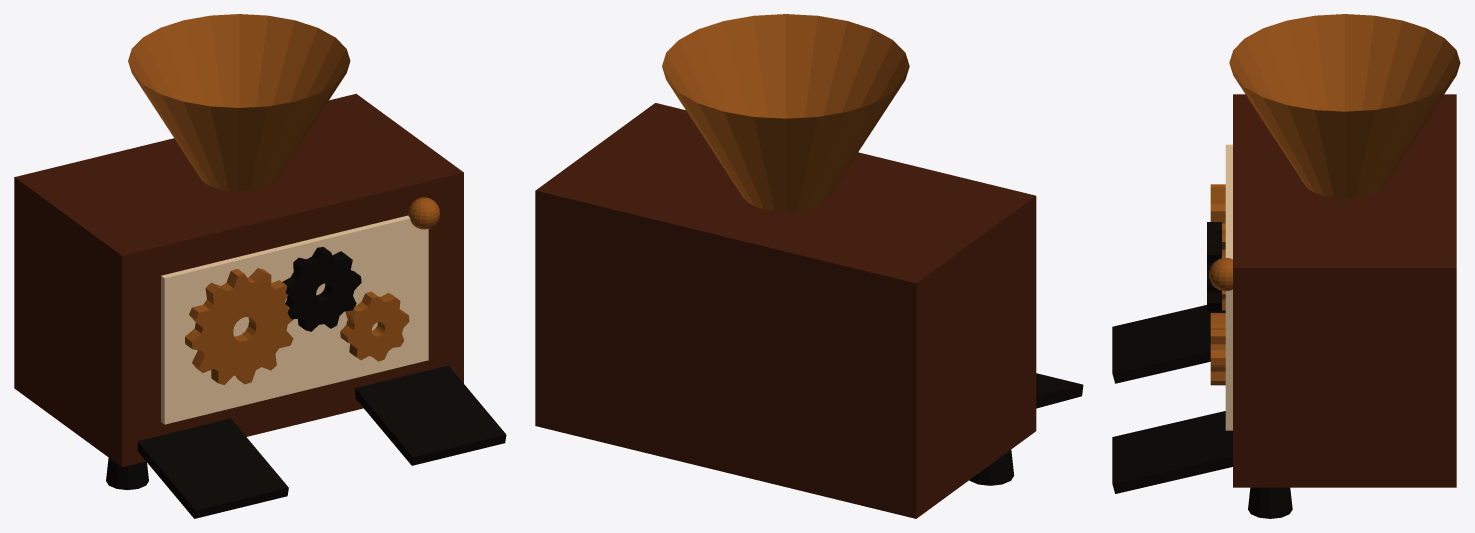
The model's file is machine.glb.
3 views of the same model, side by side, from view 1: azimuth 30°, elevation 25°; view 2: azimuth 150°, elevation 25°; view 3: azimuth 270°, elevation 25° (orthographic). The views are drawn at different scales.
Parts seen in each view (by area): view 1: body, hopper, panel, trayContent, trayWording, gearA, gearB, gearC, footL, lamp; view 2: body, hopper, trayContent, footL; view 3: body, hopper, trayWording, trayContent, panel, footR, gearC, gearB, gearA, lamp.
Boxes of the visible parts, x1,y1,x2,y2 form: body: [14, 93, 463, 467]; hopper: [128, 14, 350, 191]; panel: [161, 215, 428, 424]; trayContent: [137, 418, 288, 518]; trayWording: [355, 365, 506, 465]; gearA: [185, 268, 293, 384]; gearB: [282, 247, 361, 331]; gearC: [340, 291, 409, 361]; footL: [106, 458, 148, 489]; lamp: [408, 197, 439, 229]; body: [535, 103, 1036, 518]; hopper: [662, 14, 909, 211]; trayContent: [1036, 373, 1083, 408]; footL: [969, 450, 1014, 485]; body: [1233, 94, 1456, 487]; hopper: [1229, 14, 1460, 198]; trayWording: [1112, 411, 1232, 493]; trayContent: [1112, 305, 1225, 383]; panel: [1225, 144, 1232, 430]; footR: [1248, 487, 1292, 518]; gearC: [1210, 313, 1225, 385]; gearB: [1207, 222, 1221, 311]; gearA: [1210, 184, 1225, 310]; lamp: [1209, 257, 1232, 291].
Bounding box in the file's own units: 2.2 × 2.2 × 1.87.
